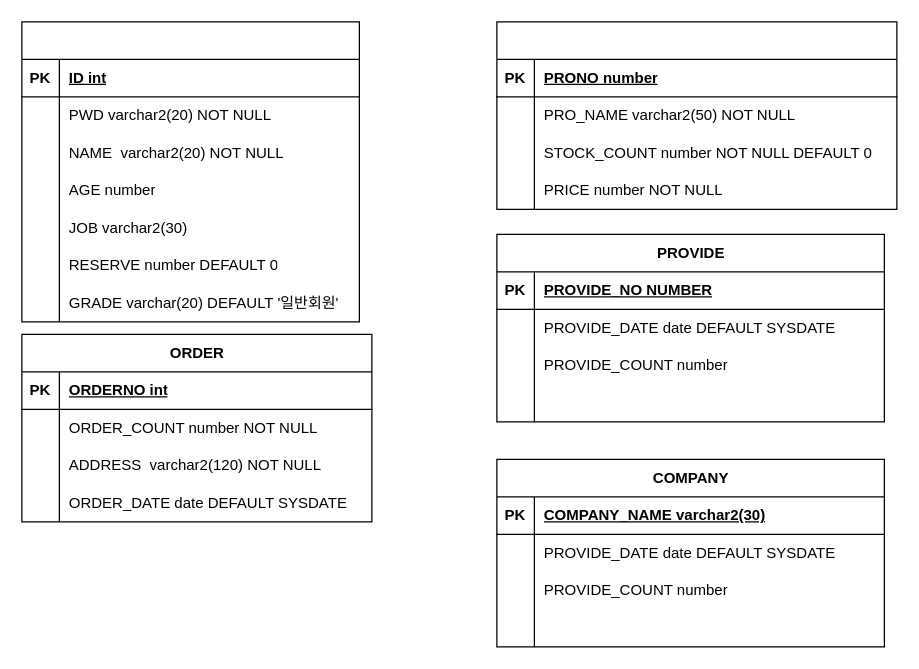
The diagram is 919 pixels wide and 669 high, and some of its shapes have lost their labels. Here are the shapes that lost their labels. From the top down, the box of each, then its label:
(496, 21, 897, 209): PRODUCT
(21, 21, 359, 322): MEMBER
